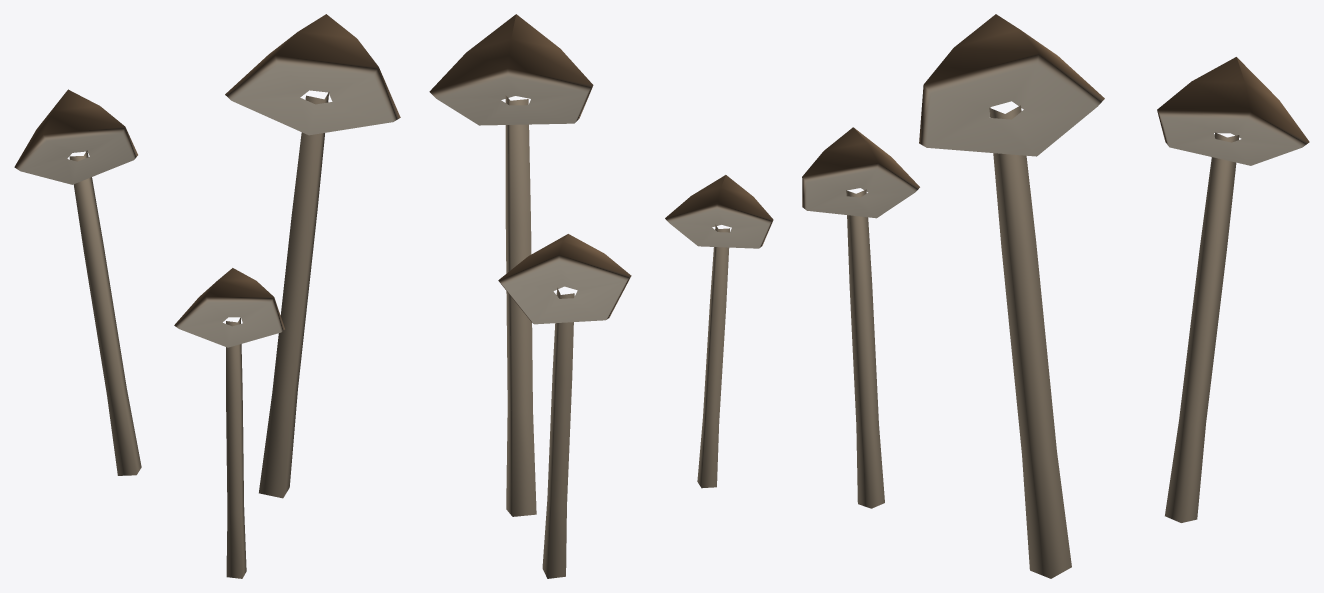
The model's file is mushroom-mycena-a.lod2.glb.
3 renders of one model, left to right at view 1: azimuth 30°, elevation 25°; view 2: azimuth 150°, elevation 25°; view 3: azimuth 270°, elevation 25°, orthographic. The views are drawn at different scales.
Visible parts, largest first — view 1: mushroom-mycena-a.lod2; view 2: mushroom-mycena-a.lod2; view 3: mushroom-mycena-a.lod2.
Boxes of the visible parts, box(x1,y1,x2,y2) form: mushroom-mycena-a.lod2: box(14, 14, 400, 578); mushroom-mycena-a.lod2: box(429, 14, 773, 578); mushroom-mycena-a.lod2: box(802, 14, 1309, 578).
Size of the model in its own units: 0.0423 by 0.0718 by 0.0577.
